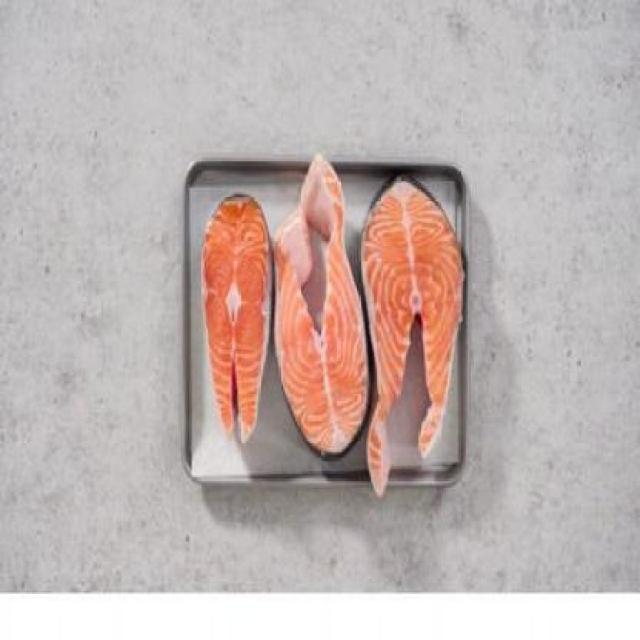salmon: (348, 146, 470, 505), (265, 148, 377, 472), (197, 191, 279, 455)
